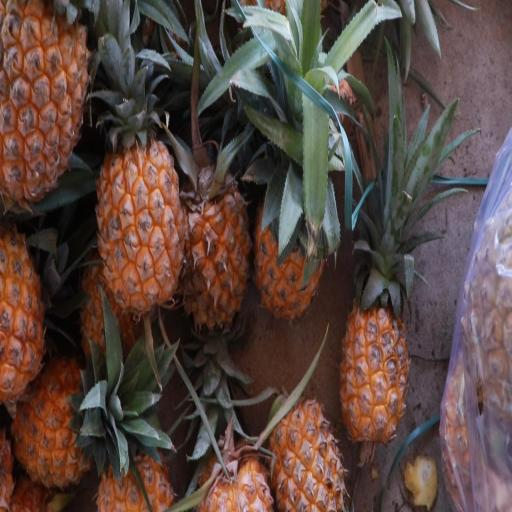Pineapple - v8 v1: (0, 0, 96, 218), (7, 348, 146, 496), (92, 108, 187, 322), (180, 142, 256, 339), (337, 258, 415, 448), (254, 152, 328, 327), (266, 384, 351, 512), (0, 223, 53, 414)
